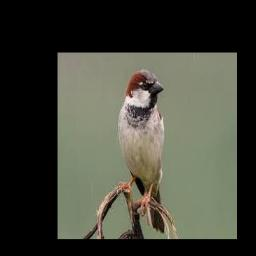Sparrow: (117, 69, 166, 233)
